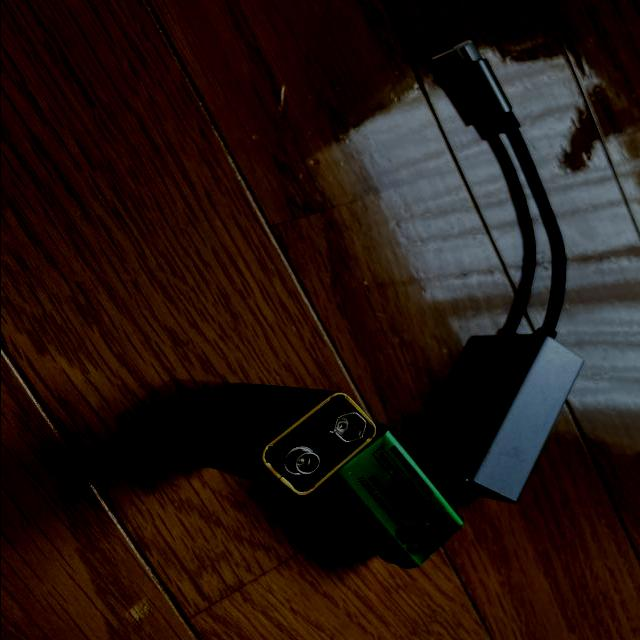9V: (313, 422, 463, 569), (180, 385, 375, 496)
